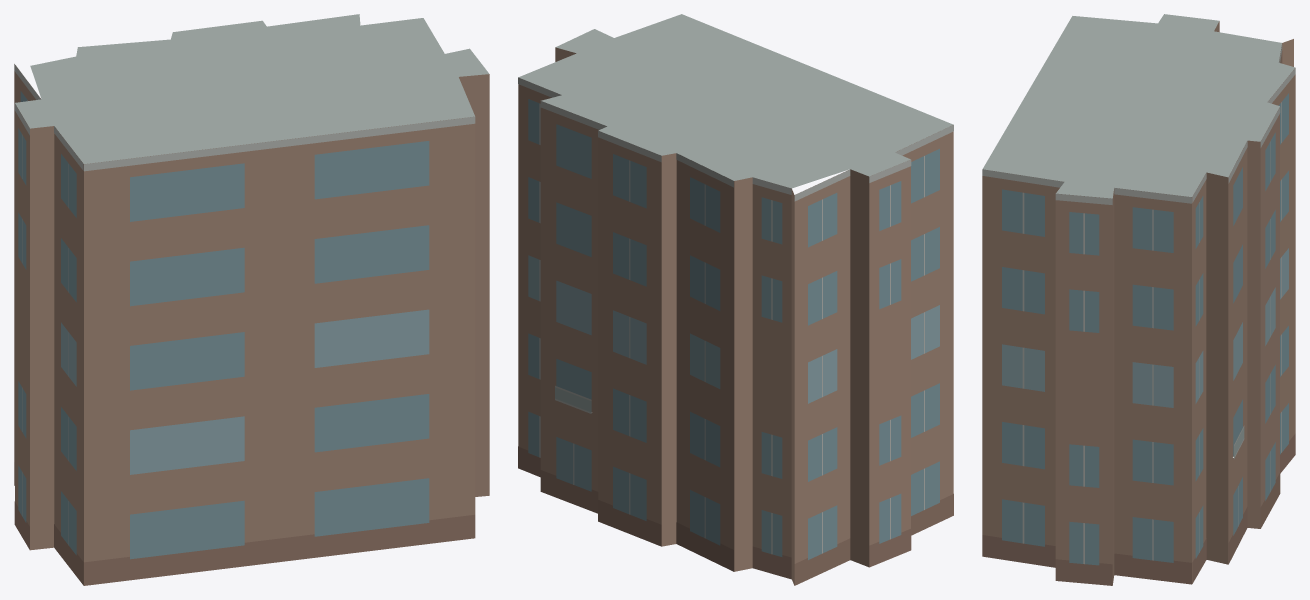
Rendered from survey-upis-32894371.glb.
3 renders of one model, left to right at view 1: azimuth 30°, elevation 25°; view 2: azimuth 150°, elevation 25°; view 3: azimuth 270°, elevation 25°, orthographic. The views are drawn at different scales.
Parts seen in each view (by area): view 1: survey-upis-32894371.tmp; view 2: survey-upis-32894371.tmp; view 3: survey-upis-32894371.tmp.
Part boxes in pixels (x1,y1,x2,y2): survey-upis-32894371.tmp: (14, 14, 489, 585); survey-upis-32894371.tmp: (518, 14, 953, 585); survey-upis-32894371.tmp: (982, 14, 1295, 585).
Bounding box in the file's own units: 14.62 × 14.3 × 10.49.
